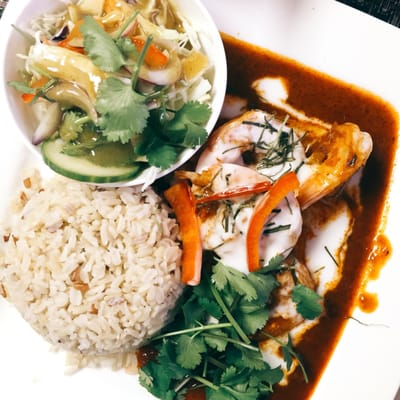sushi: (2, 0, 229, 193)
